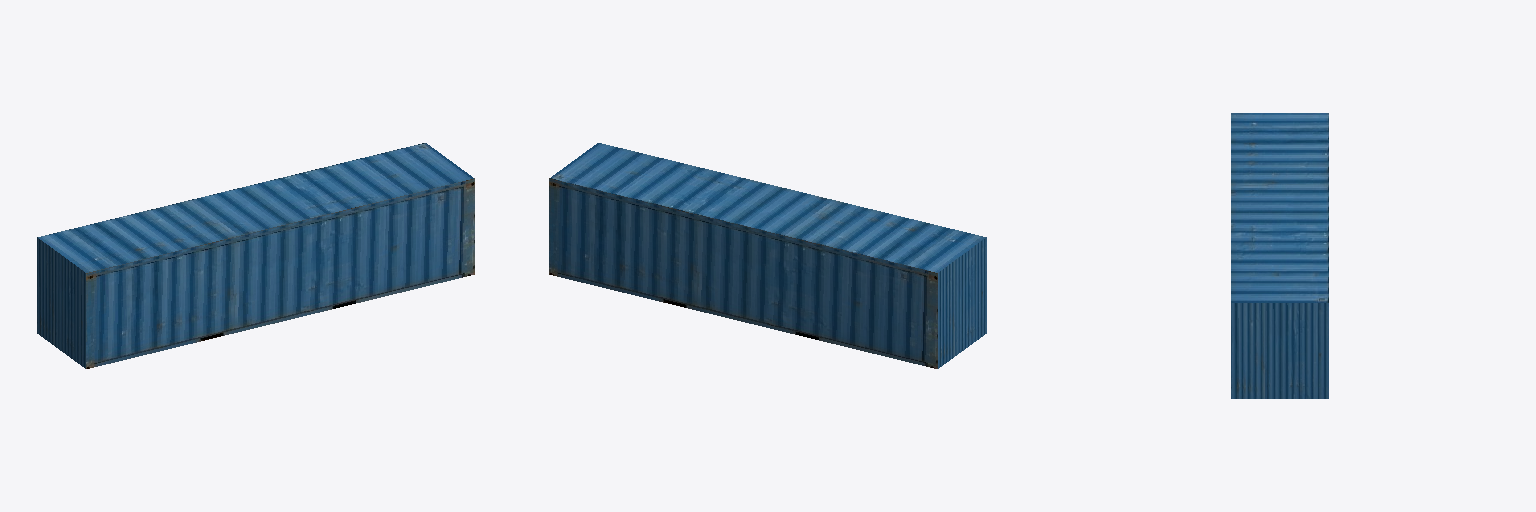
3 renders of one model, left to right at view 1: azimuth 30°, elevation 25°; view 2: azimuth 150°, elevation 25°; view 3: azimuth 270°, elevation 25°, orthographic.
Parts seen in each view (by area): view 1: cube5181; view 2: cube5181; view 3: cube5181.
Part boxes in pixels (x1,y1,x2,y2): cube5181: (37, 143, 474, 368); cube5181: (549, 143, 986, 368); cube5181: (1231, 113, 1328, 398).
Size of the model in its own units: 4.09 by 0.9682 by 0.8914.
Materials: 1 (1 with a texture image).